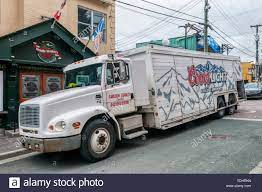truck: (18, 44, 243, 160)
